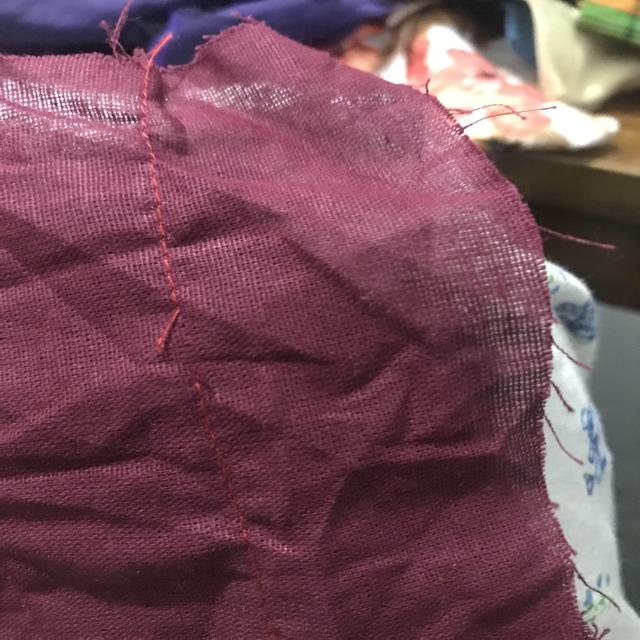broken: (141, 298, 232, 401)
good: (148, 196, 188, 274)
